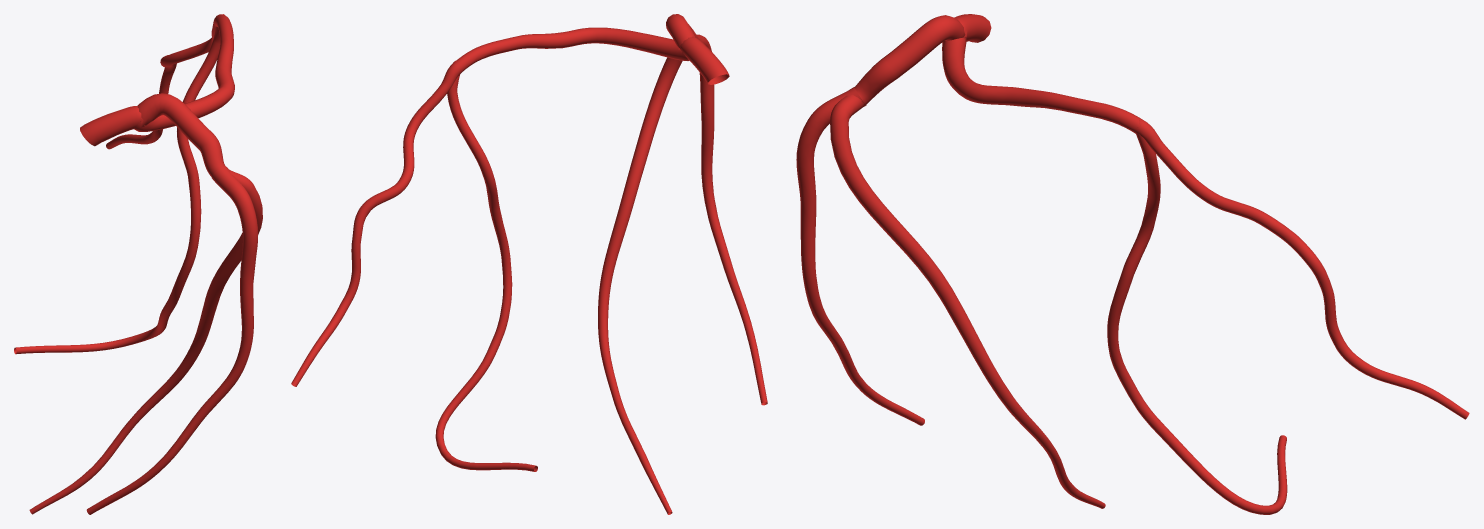
The model's file is circulatorio-anterior-temporal-branch-l.glb.
3 renders of one model, left to right at view 1: azimuth 30°, elevation 25°; view 2: azimuth 150°, elevation 25°; view 3: azimuth 270°, elevation 25°, orthographic. The views are drawn at different scales.
Parts seen in each view (by area): view 1: Anterior temporal branch.l; view 2: Anterior temporal branch.l; view 3: Anterior temporal branch.l.
Boxes of the visible parts, x1,y1,x2,y2 form: Anterior temporal branch.l: (14,14,262,514); Anterior temporal branch.l: (291,14,767,514); Anterior temporal branch.l: (796,14,1469,514).
Size of the model in its own units: 0.022 by 0.0365 by 0.0424.
